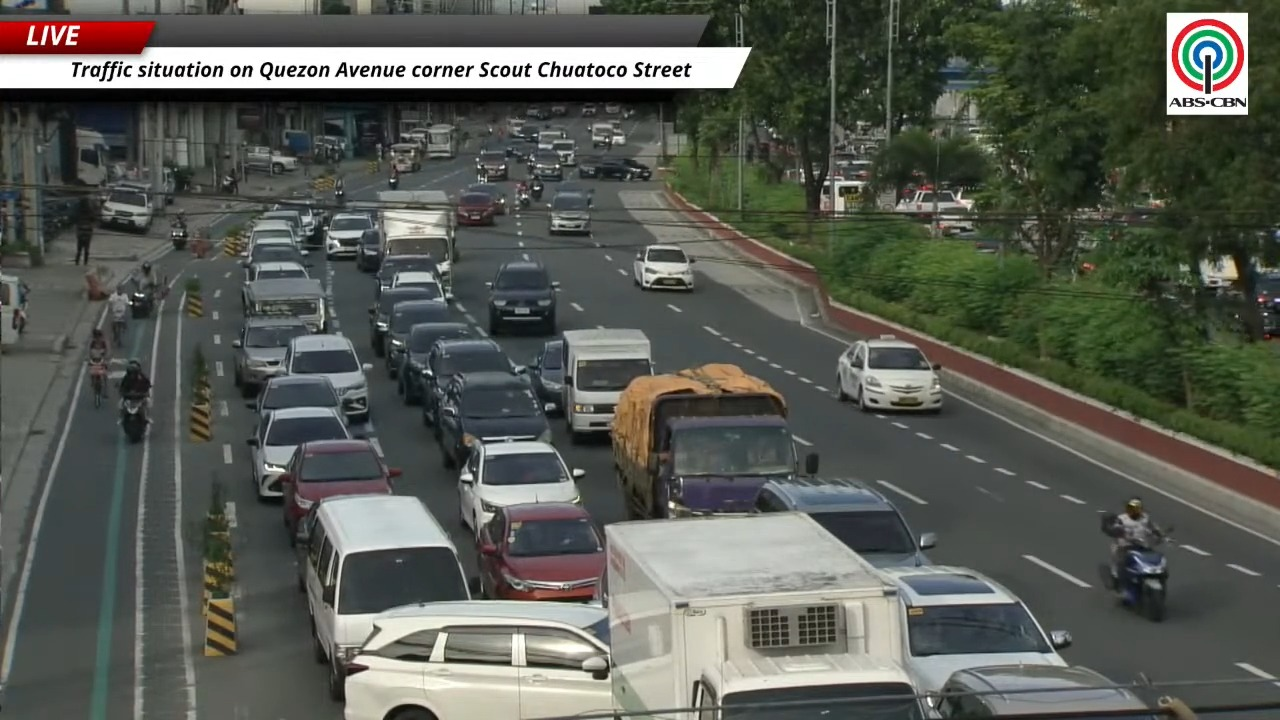bus: (821, 180, 866, 214), (424, 124, 458, 159)
car: (344, 601, 611, 719), (879, 566, 1071, 692), (753, 477, 936, 566), (477, 501, 604, 601), (279, 438, 400, 540), (458, 436, 584, 533), (928, 665, 1151, 719), (437, 371, 551, 467), (422, 338, 525, 436), (247, 407, 350, 498), (836, 335, 943, 412), (282, 334, 371, 423), (397, 322, 474, 405), (232, 316, 309, 397), (383, 298, 450, 378), (487, 260, 559, 334), (241, 244, 310, 314), (369, 287, 438, 356), (246, 375, 340, 416), (633, 244, 694, 290), (528, 339, 563, 412), (99, 187, 153, 233), (375, 254, 437, 294), (242, 241, 306, 279), (272, 195, 322, 243), (325, 212, 373, 259), (248, 211, 301, 246), (548, 192, 591, 235), (250, 209, 303, 242), (246, 220, 297, 250), (391, 270, 443, 299), (456, 192, 499, 225), (463, 182, 508, 213), (596, 157, 651, 180), (247, 261, 308, 281), (934, 207, 975, 236), (355, 229, 382, 271), (528, 150, 563, 180), (476, 148, 508, 179), (1255, 273, 1280, 312), (556, 182, 594, 207), (505, 137, 535, 163), (552, 139, 576, 166), (577, 155, 601, 178), (520, 123, 540, 150), (1261, 310, 1279, 340), (526, 106, 549, 119), (611, 127, 626, 146), (604, 102, 621, 114), (550, 104, 567, 116), (581, 103, 596, 116)
motorcycle: (1102, 527, 1171, 621), (130, 277, 165, 318), (120, 395, 147, 442), (89, 357, 108, 408), (130, 286, 154, 318), (111, 311, 126, 346), (170, 223, 188, 250), (220, 174, 237, 193), (517, 190, 530, 208), (529, 184, 542, 201), (335, 187, 344, 206), (388, 176, 399, 190)
truck: (604, 512, 924, 719), (611, 364, 818, 518), (560, 328, 652, 441), (379, 209, 455, 301), (376, 190, 456, 229), (75, 128, 109, 186)
